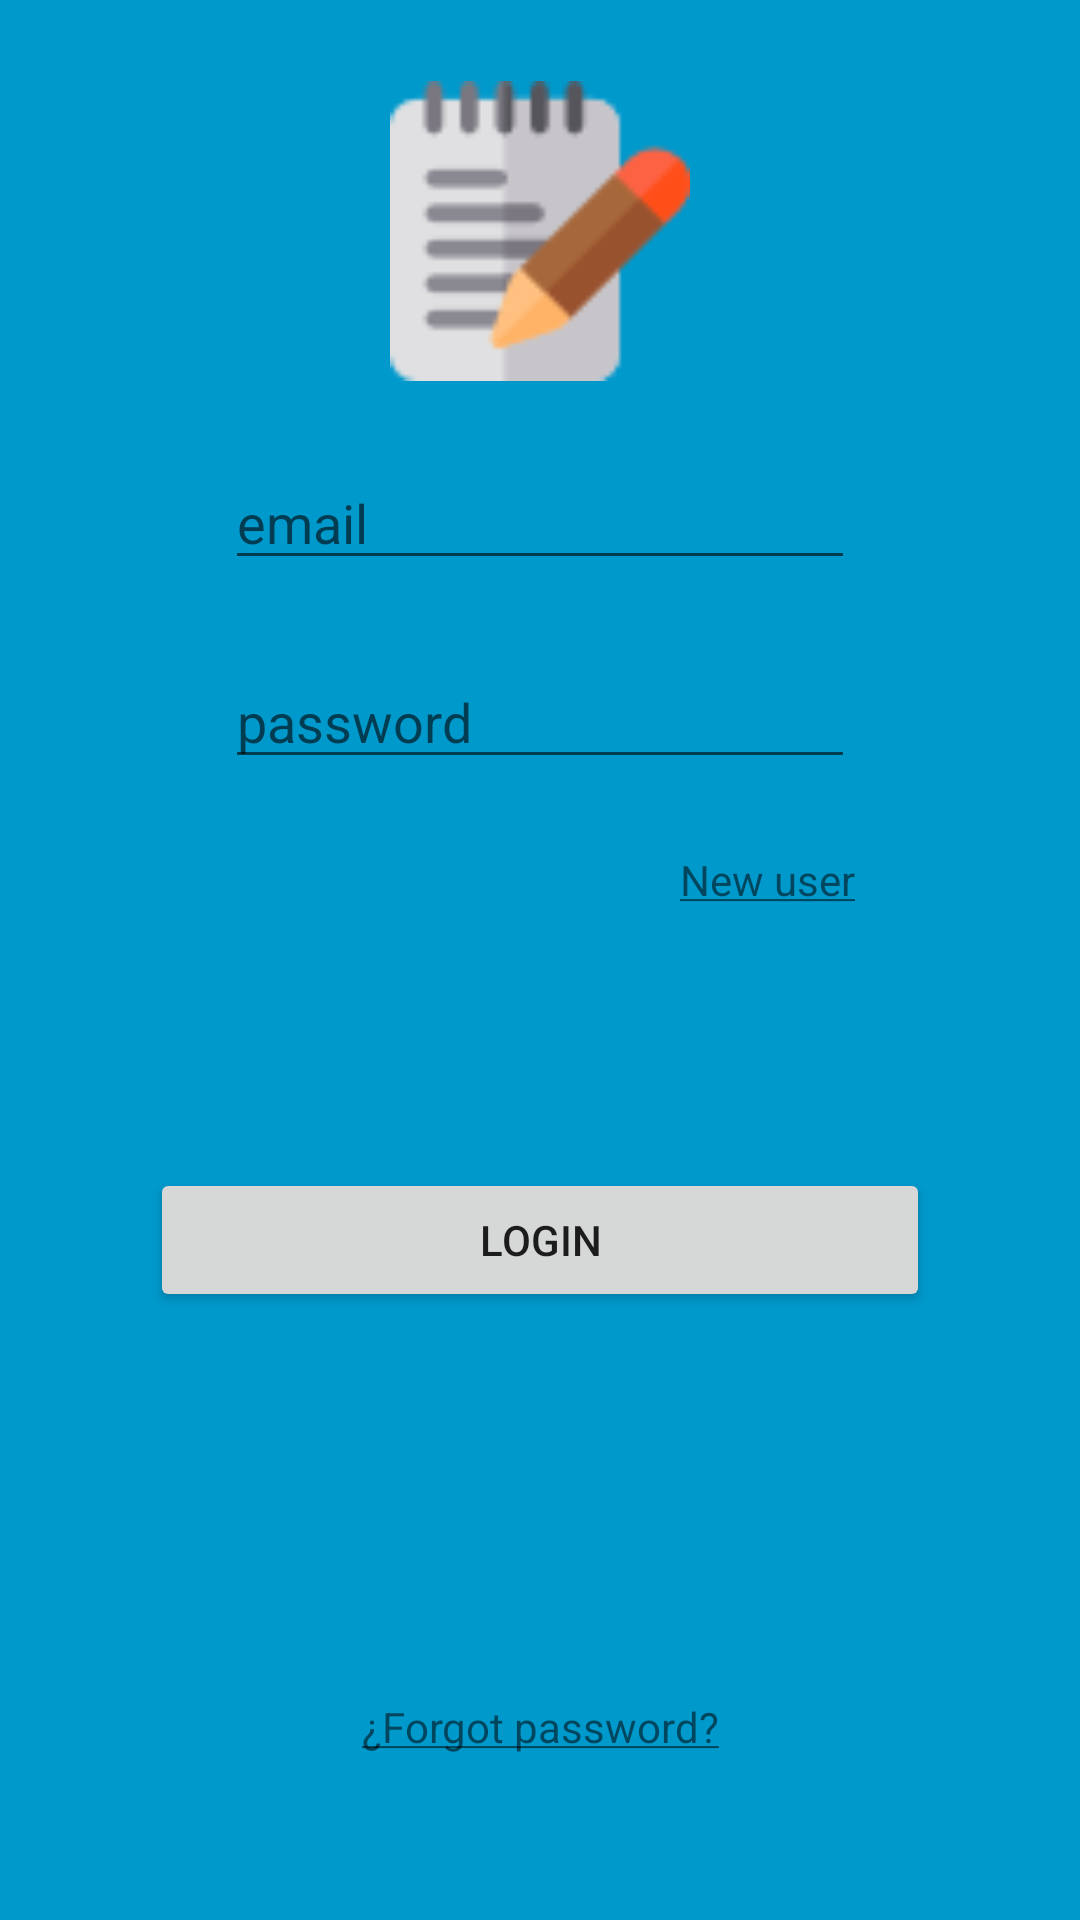

Icon bounding boxes for this 1080w x 1920h phone screenshot, format (x1, y1, x2, y2):
notepad: (390, 81, 690, 381)
